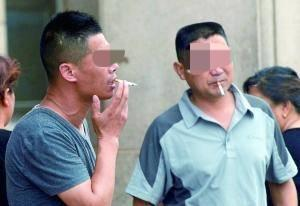smoke: (111, 76, 139, 89), (214, 81, 226, 99)
